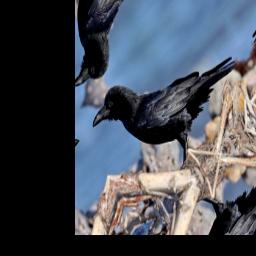Crow: (85, 0, 256, 215)
